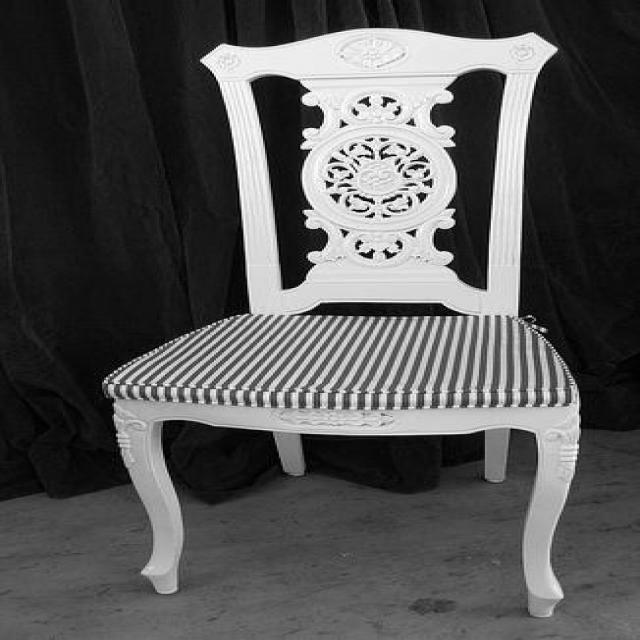chair: (94, 24, 580, 616)
